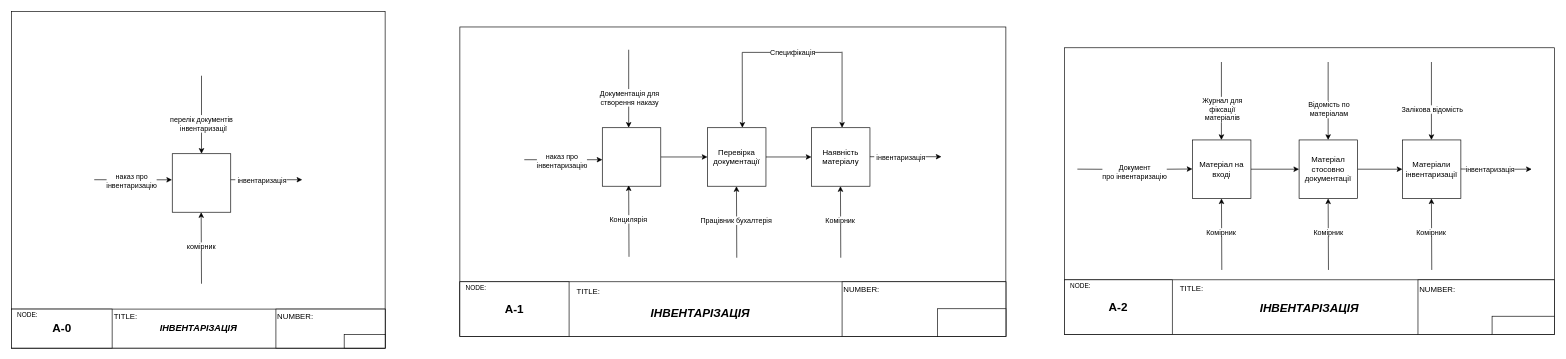
This 1566x359 diagram has some shape labels left out. Here are the shapes that lost their labels. From the top down, the centre of each, then its label:
At pixel 631 156: "Створення наказу".
At pixel 201 182: "інвентаризації".
